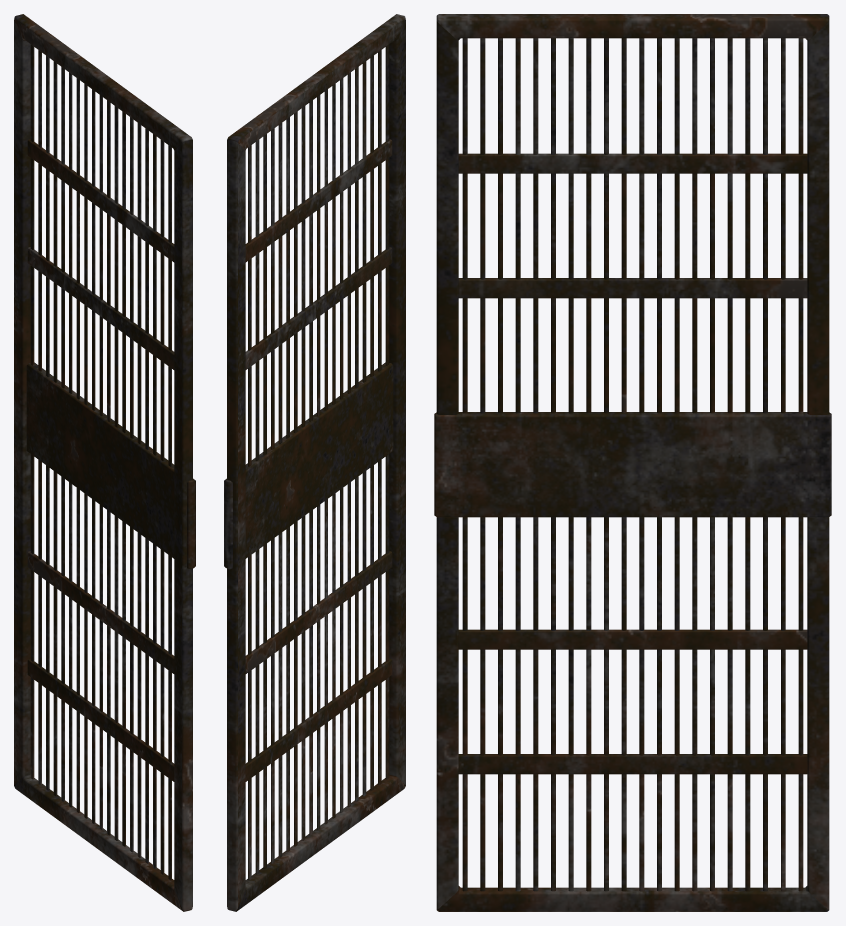
File: Basement_Corridor_A_Wall_Shaft_Grill.glb
The picture shows the model from 3 angles, left to right: view 1: azimuth 30°, elevation 25°; view 2: azimuth 150°, elevation 25°; view 3: azimuth 270°, elevation 25°; orthographic projection. The views are drawn at different scales.
Parts seen in each view (by area): view 1: Basement_Corridor_A_Wall_Shaft_Grill; view 2: Basement_Corridor_A_Wall_Shaft_Grill; view 3: Basement_Corridor_A_Wall_Shaft_Grill.
Boxes of the visible parts, bbox=[...] form: Basement_Corridor_A_Wall_Shaft_Grill: bbox=[14, 14, 195, 911]; Basement_Corridor_A_Wall_Shaft_Grill: bbox=[224, 14, 405, 911]; Basement_Corridor_A_Wall_Shaft_Grill: bbox=[434, 14, 831, 911].
Bounding box in the file's own units: 0.0437 × 2.5 × 1.01.
1 material, 1 textured.
